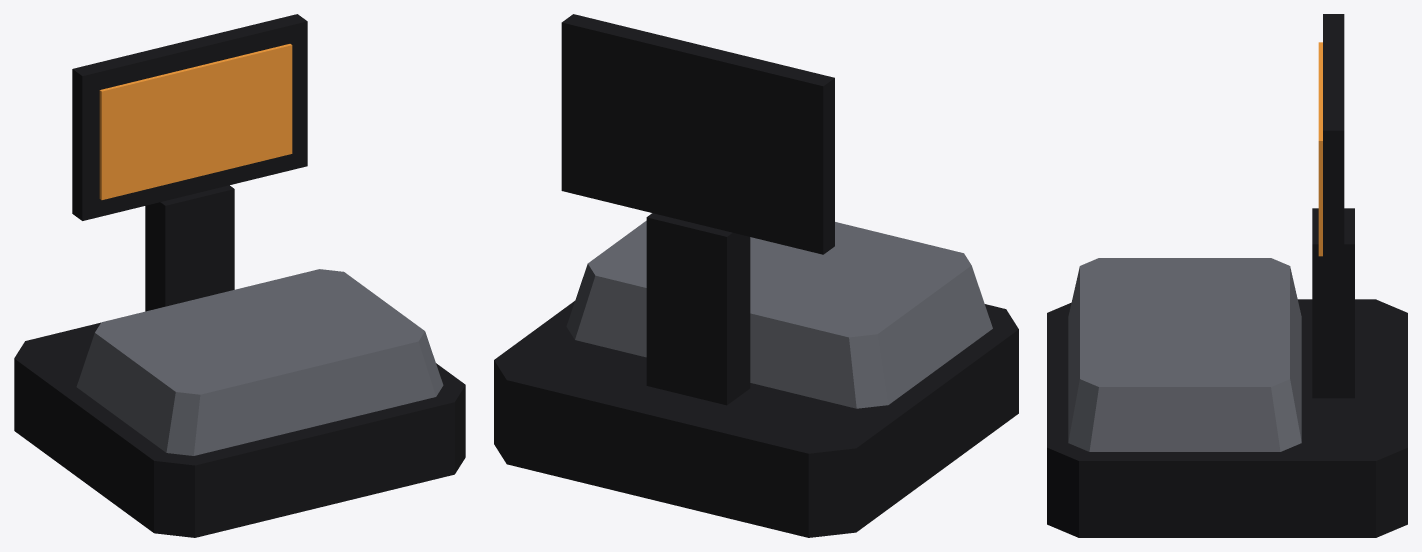
Rendered from cash_register.obj.
The picture shows the model from 3 angles, left to right: view 1: azimuth 30°, elevation 25°; view 2: azimuth 150°, elevation 25°; view 3: azimuth 270°, elevation 25°; orthographic projection. The views are drawn at different scales.
Parts seen in each view (by area): view 1: cash_register; view 2: cash_register; view 3: cash_register.
Part boxes in pixels (box(x1,y1,x2,y2)): cash_register: box(14, 14, 465, 537); cash_register: box(494, 14, 1018, 537); cash_register: box(1047, 14, 1407, 537).
Size of the model in its own units: 0.36 by 0.4 by 0.34.
